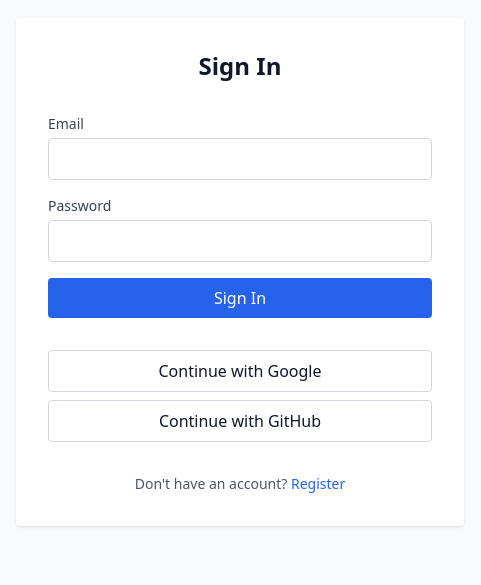
LoginPage shows error message when login fails
The width and height of the screenshot is (481, 585).
Type "bad@user.com" into the field labelled "Email".
click(240, 159); type("bad@user.com")  # box [48, 138, 432, 180]
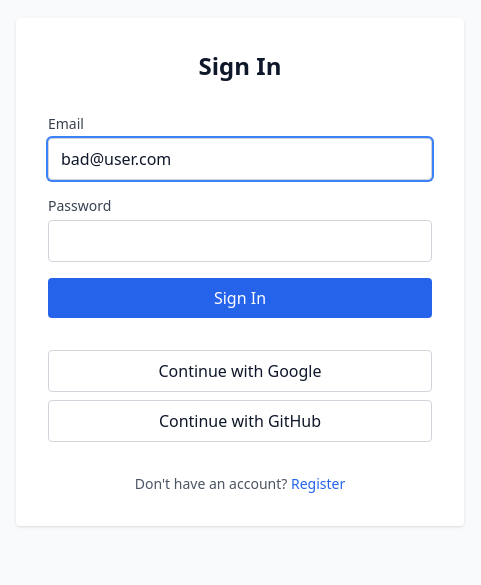
Type "wrongpassword123" into the password field labelled "Password".
click(240, 241); type("wrongpassword123")  # box [48, 220, 432, 262]
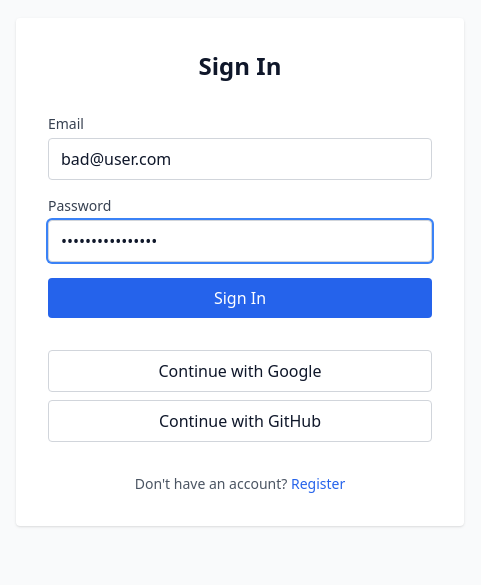
Click the button "Sign In".
click(240, 298)  # box [48, 278, 432, 318]
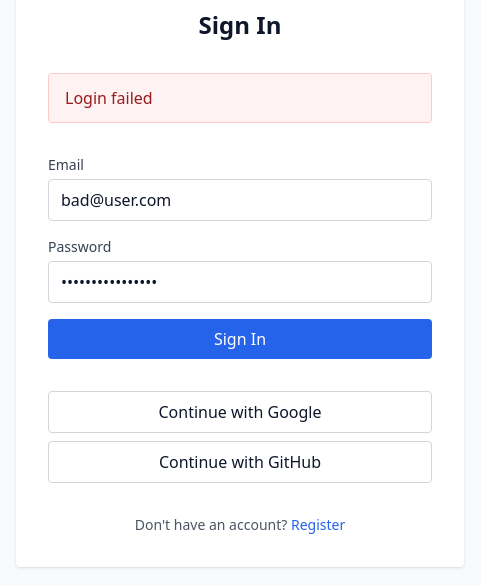
Check: the text "Login failed" is shown, box [48, 73, 432, 123]
